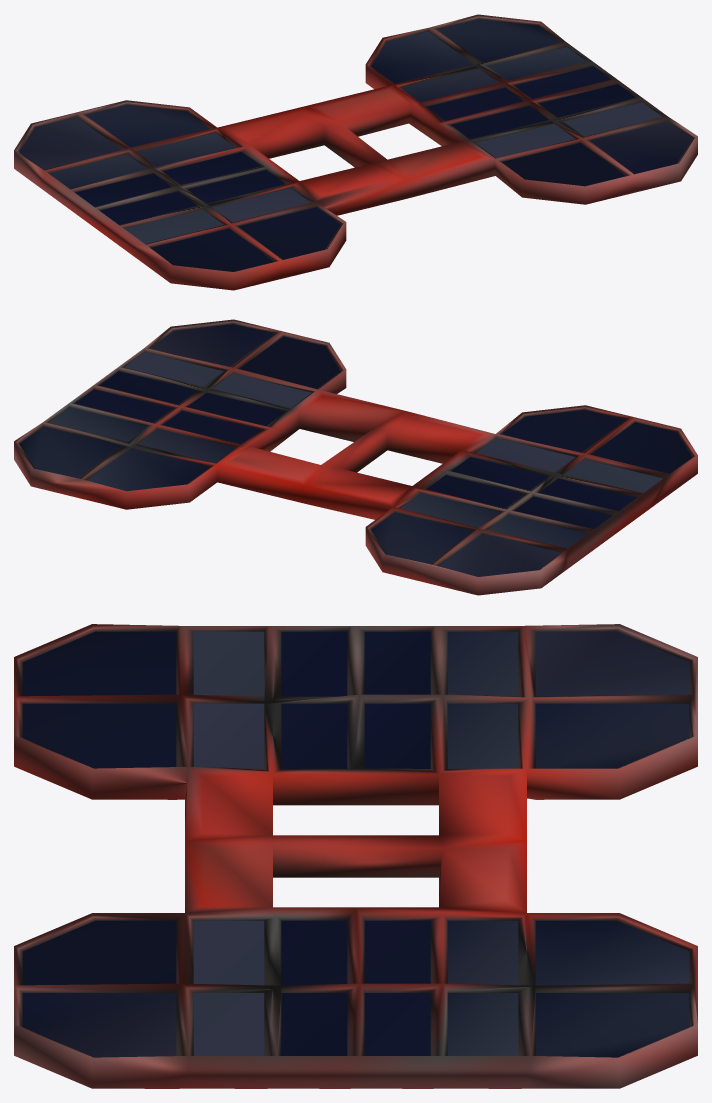
File: solar_panel_lod2.glb
3 renders of one model, top to bottom at view 1: azimuth 30°, elevation 25°; view 2: azimuth 150°, elevation 25°; view 3: azimuth 270°, elevation 25°, orthographic. The views are drawn at different scales.
Parts seen in each view (by area): view 1: solar_panel; view 2: solar_panel; view 3: solar_panel.
Boxes of the visible parts, bbox=[...] form: solar_panel: bbox=[14, 14, 697, 290]; solar_panel: bbox=[14, 319, 697, 595]; solar_panel: bbox=[14, 624, 697, 1088].
Size of the model in its own units: 6 by 0.25 by 4.
